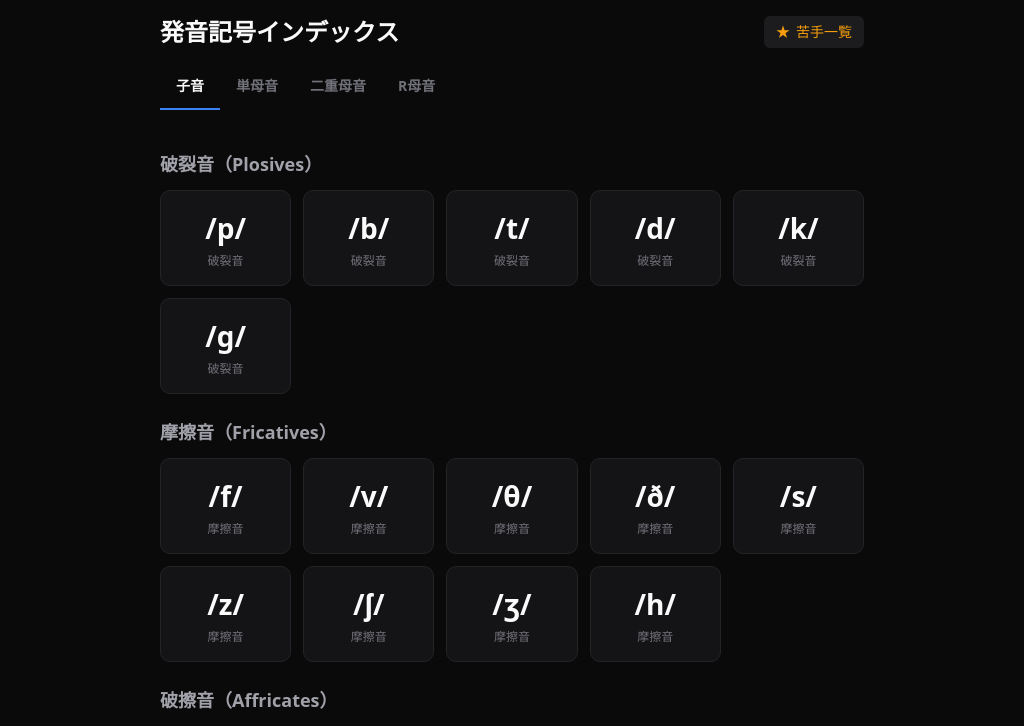
Page bookmark integration › toggles bookmark from modal and updates badge count
What coordinates should you click on to do the following:
click the button "/p/ 破裂音"
I would click on:
 (226, 238)
Its box is [160, 190, 291, 286].
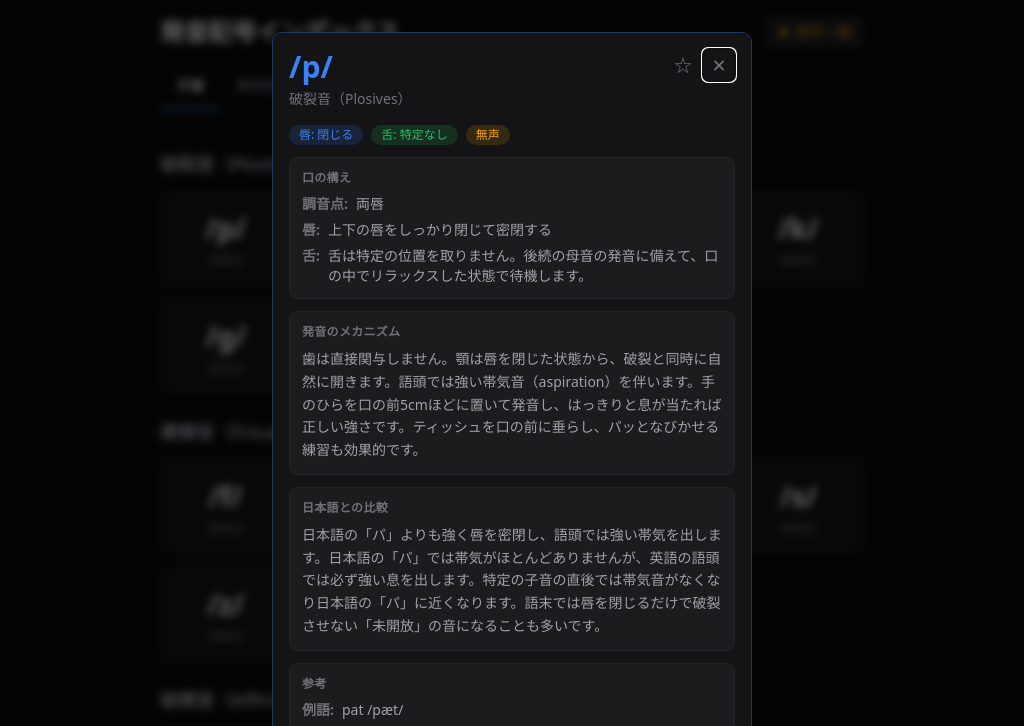
What coordinates should you click on to do the following:
click the button named "苦手に追加"
I would click on:
 (683, 65)
Its box is [667, 49, 699, 81].
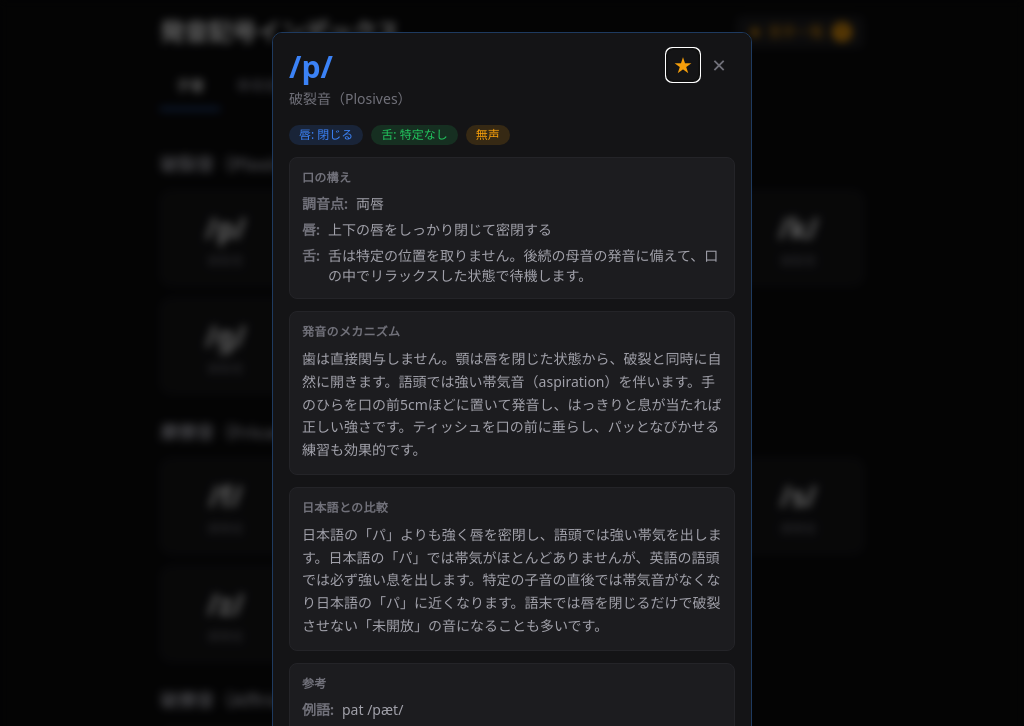
Result: the button named "苦手を解除" is shown at [667, 49, 699, 81]
Result: the link "★ 苦手一覧 1" is shown at [736, 16, 864, 48]
